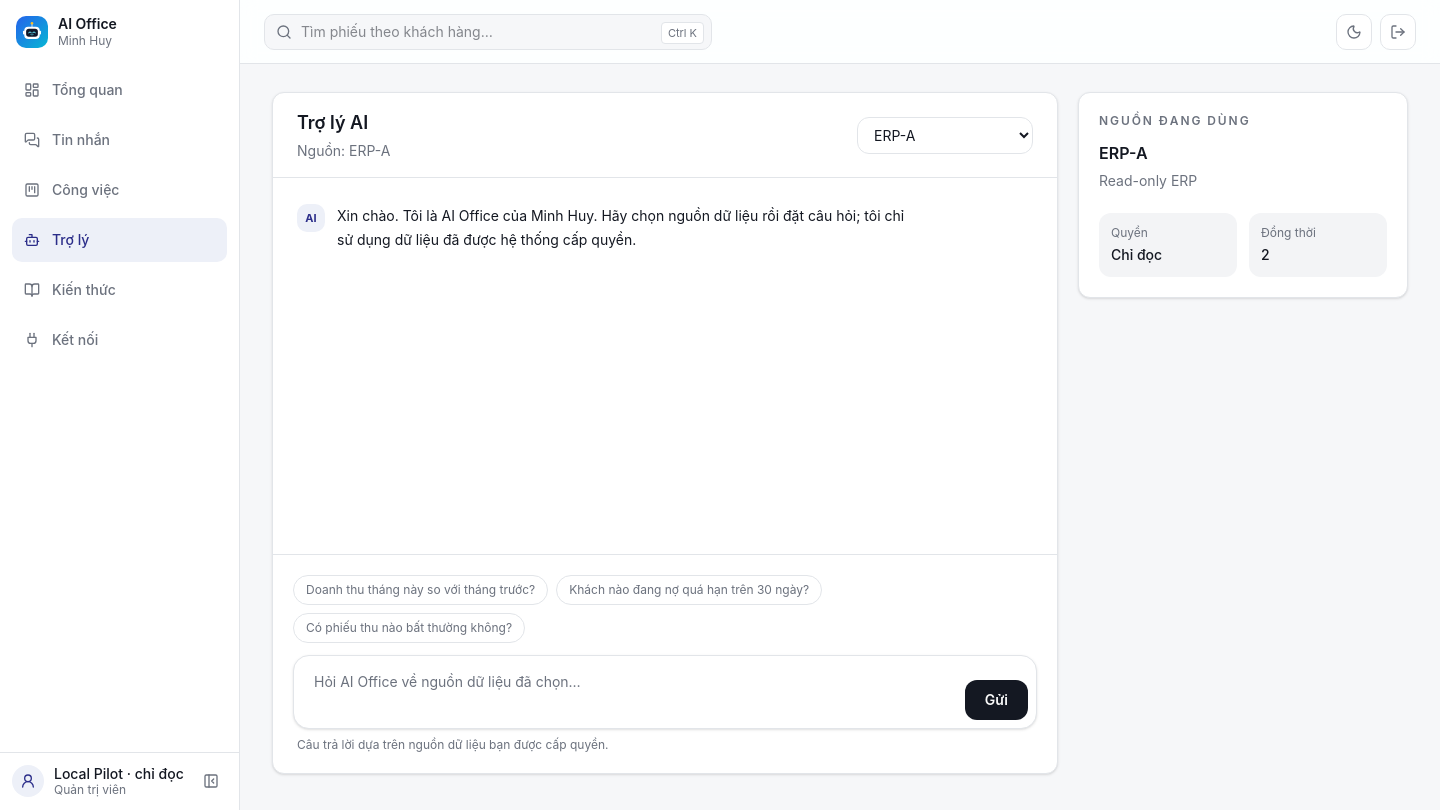
rejects invalid logical name before contacting mutation endpoint ()
The image size is (1440, 810).
Click the button "Kết nối".
click(120, 340)  # box [12,318,227,362]
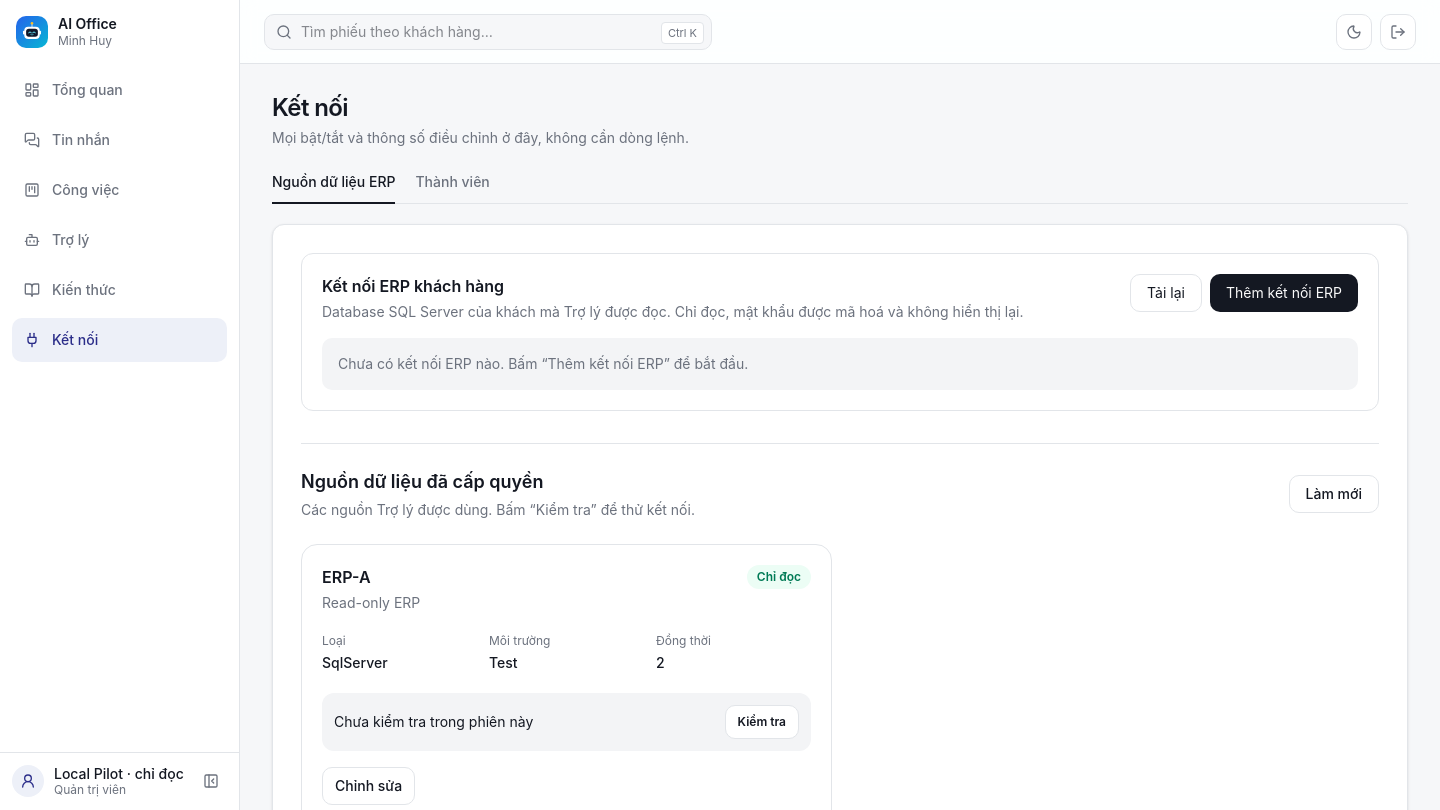
Click the button "Chỉnh sửa".
click(369, 786)  # box [322,767,415,805]
(page scrolled)
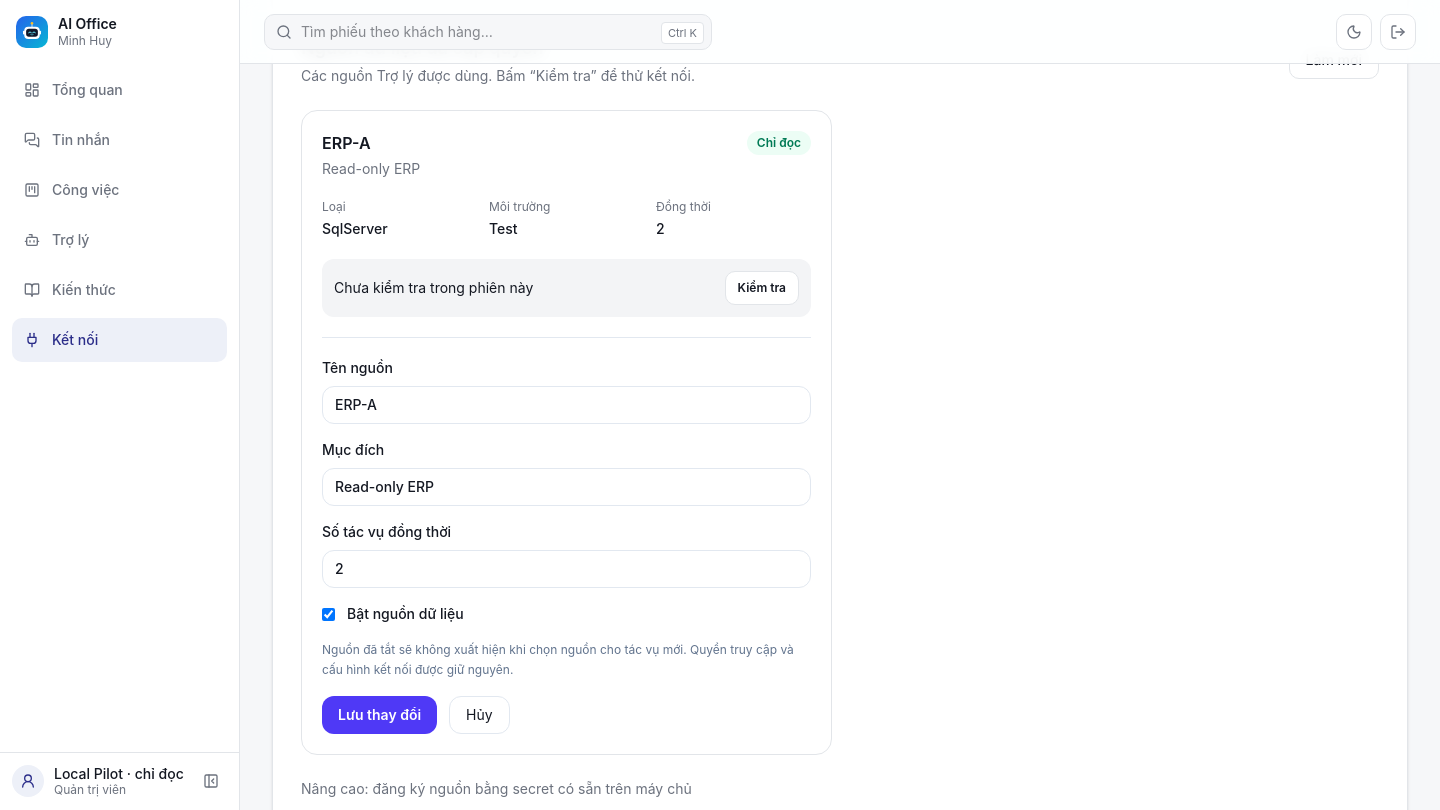
Result: the form named "Chỉnh sửa nguồn dữ liệu" is shown at [322,337,811,734]
Clear the field labelled "Tên nguồn" at (566, 405), box [322,386,811,424]
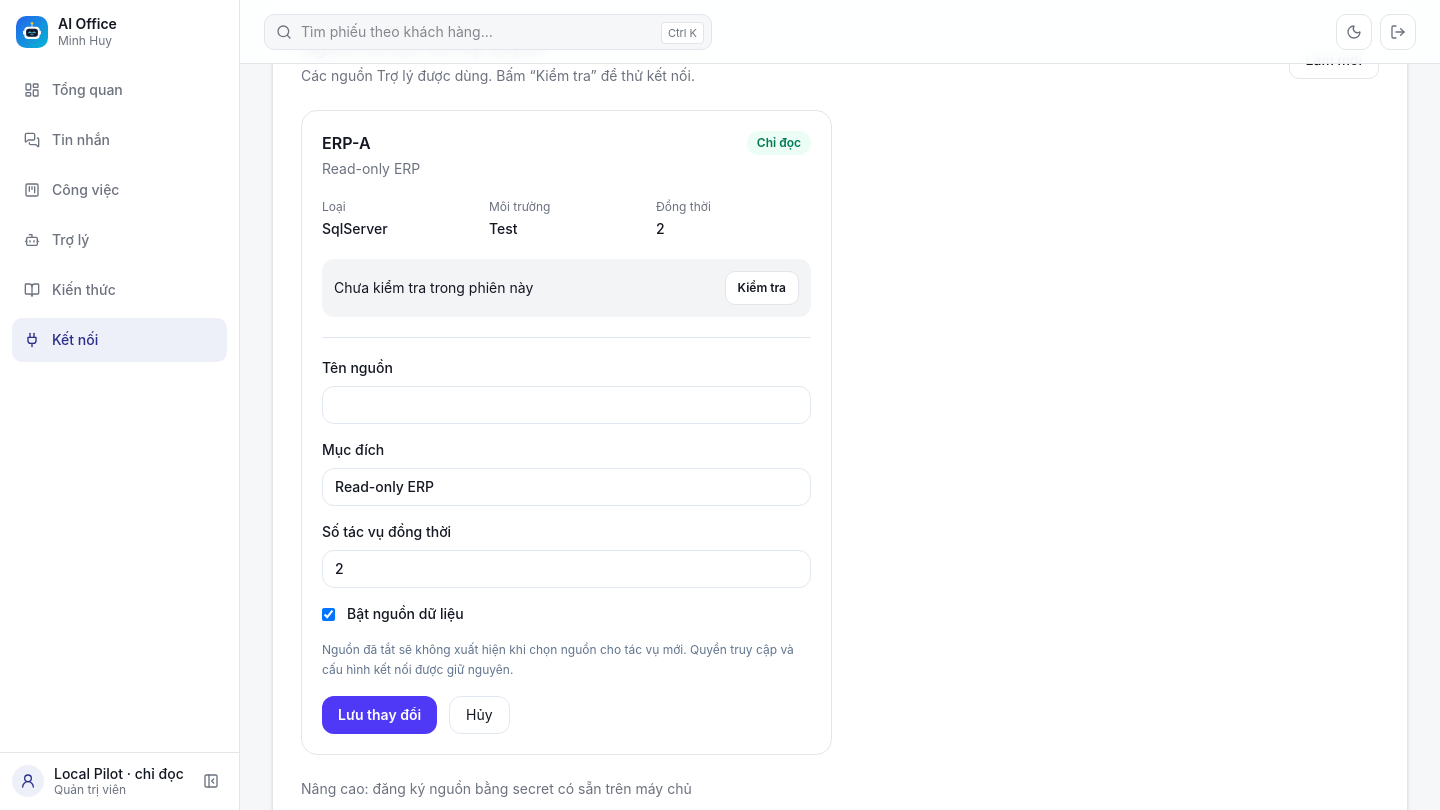
Submit the form named "Chỉnh sửa nguồn dữ liệu", box [322,337,811,734]
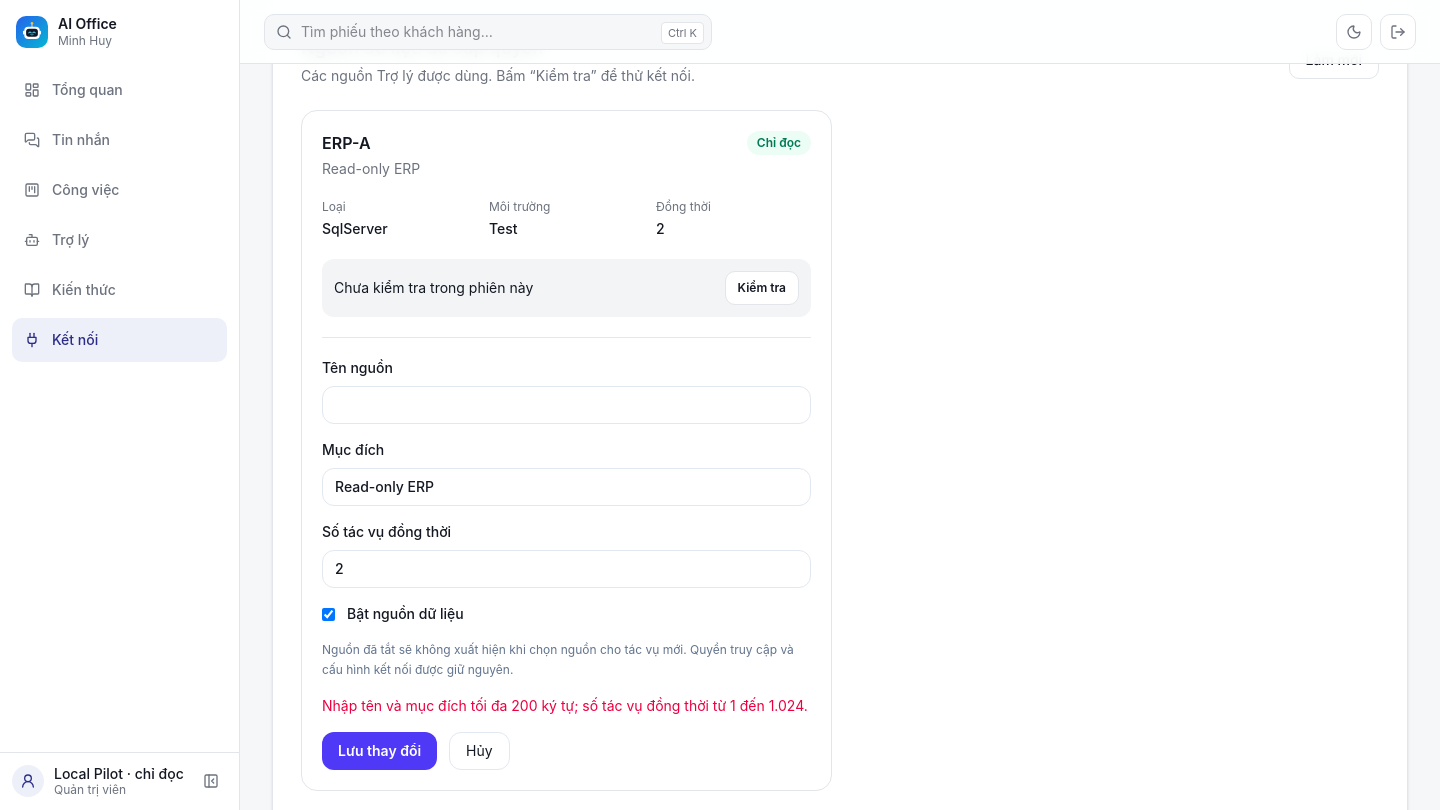
Result: the message "Nhập tên và mục đích tối đa 200 ký tự; số tác vụ đồng thời từ 1 đến 1.024." is shown at [322,696,811,716]
